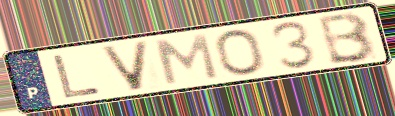3: (270, 20, 318, 71)
B: (317, 10, 379, 66)
L: (50, 52, 104, 100)
M: (152, 32, 221, 87)
O: (213, 28, 267, 77)
V: (97, 39, 153, 93)
